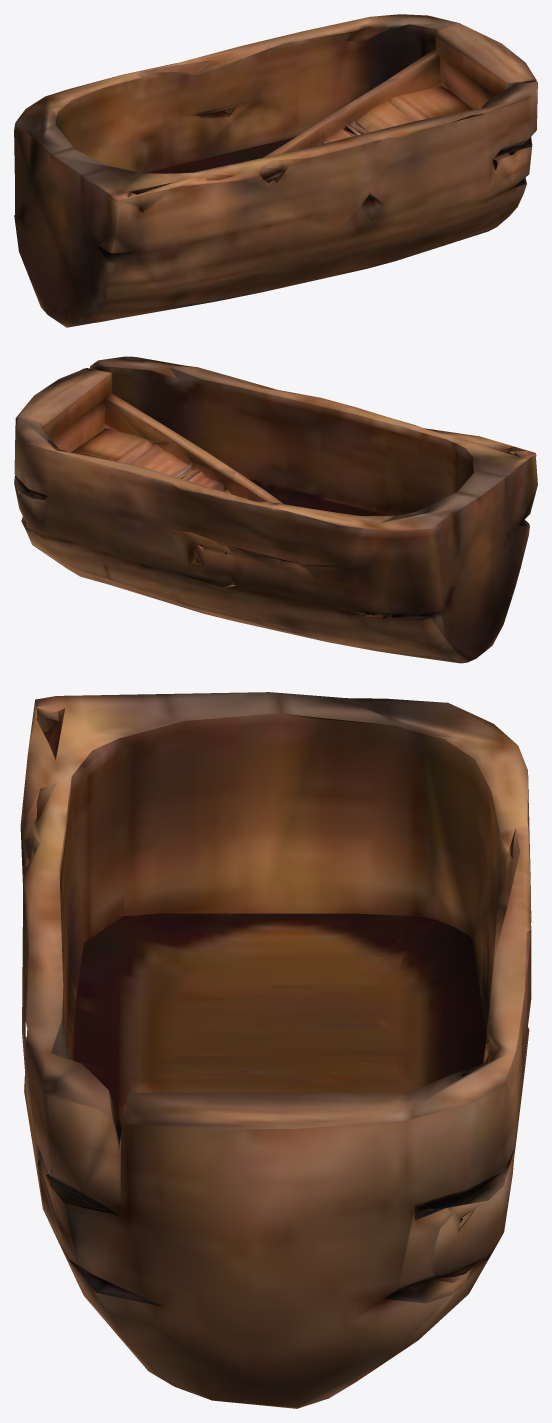
File: batea.movil.glb
3 views of the same model, one above another, from view 1: azimuth 30°, elevation 25°; view 2: azimuth 150°, elevation 25°; view 3: azimuth 270°, elevation 25° (orthographic). The views are drawn at different scales.
Parts seen in each view (by area): view 1: geometry_0; view 2: geometry_0; view 3: geometry_0.
Boxes of the visible parts, <box> form: geometry_0: <box>14,14,537,327</box>; geometry_0: <box>14,356,537,663</box>; geometry_0: <box>20,692,531,1408</box>.
Size of the model in its own units: 0.9944 by 0.3464 by 0.4981.
1 material, 1 textured.
